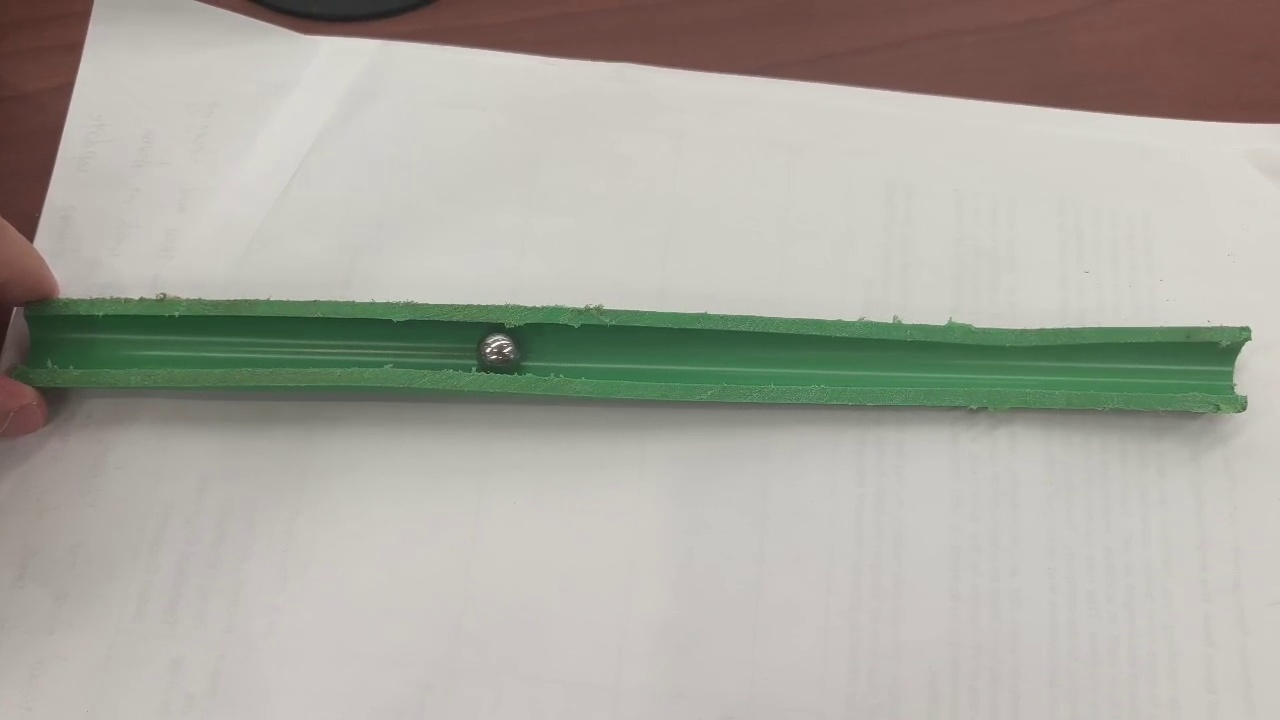ball: (480, 333, 517, 363)
